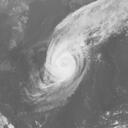cyclone: (41, 17, 87, 90)
